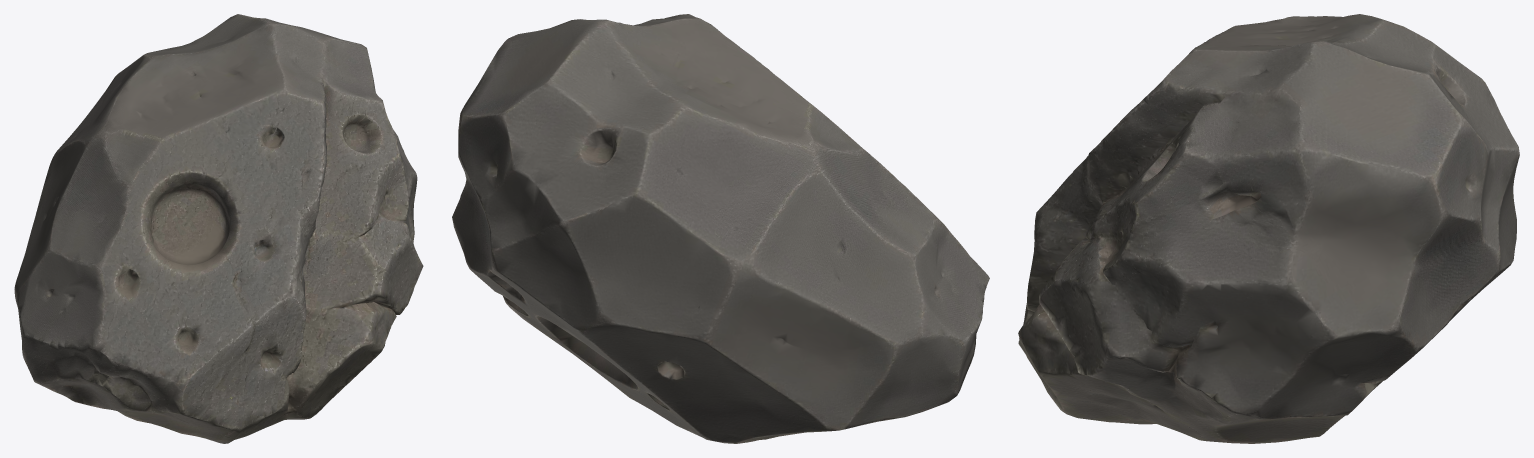
The model's file is runtime_medium_02.glb.
The picture shows the model from 3 angles, left to right: view 1: azimuth 30°, elevation 25°; view 2: azimuth 150°, elevation 25°; view 3: azimuth 270°, elevation 25°; orthographic projection. The views are drawn at different scales.
Visible parts, largest first — view 1: tripo_node_37a6f840-5f51-44cb-83c4-4ac6dd853c8e; view 2: tripo_node_37a6f840-5f51-44cb-83c4-4ac6dd853c8e; view 3: tripo_node_37a6f840-5f51-44cb-83c4-4ac6dd853c8e.
Boxes of the visible parts, x1,y1,x2,y2 form: tripo_node_37a6f840-5f51-44cb-83c4-4ac6dd853c8e: (14,14,423,443); tripo_node_37a6f840-5f51-44cb-83c4-4ac6dd853c8e: (452,14,989,443); tripo_node_37a6f840-5f51-44cb-83c4-4ac6dd853c8e: (1018,14,1519,443).
Bounding box in the file's own units: 0.9798 × 0.7905 × 0.8283.
Materials: 1 (1 with a texture image).
